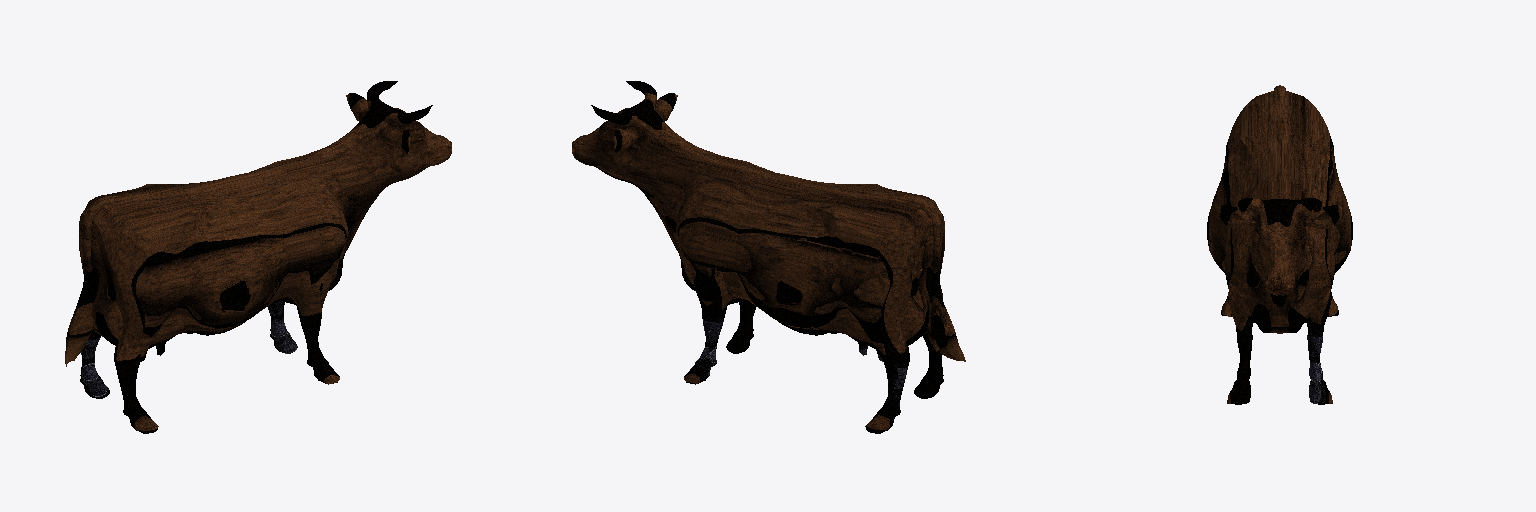
3 views of the same model, side by side, from view 1: azimuth 30°, elevation 25°; view 2: azimuth 150°, elevation 25°; view 3: azimuth 270°, elevation 25° (orthographic).
Parts seen in each view (by area): view 1: Mesh; view 2: Mesh; view 3: Mesh.
Part boxes in pixels (left/top/right/bottom): Mesh: left=65, top=81, right=451, bottom=433; Mesh: left=572, top=81, right=965, bottom=433; Mesh: left=1207, top=85, right=1352, bottom=404.
Bounding box in the file's own units: 0.9695 × 0.5938 × 0.3159.
Materials: 1 (1 with a texture image).